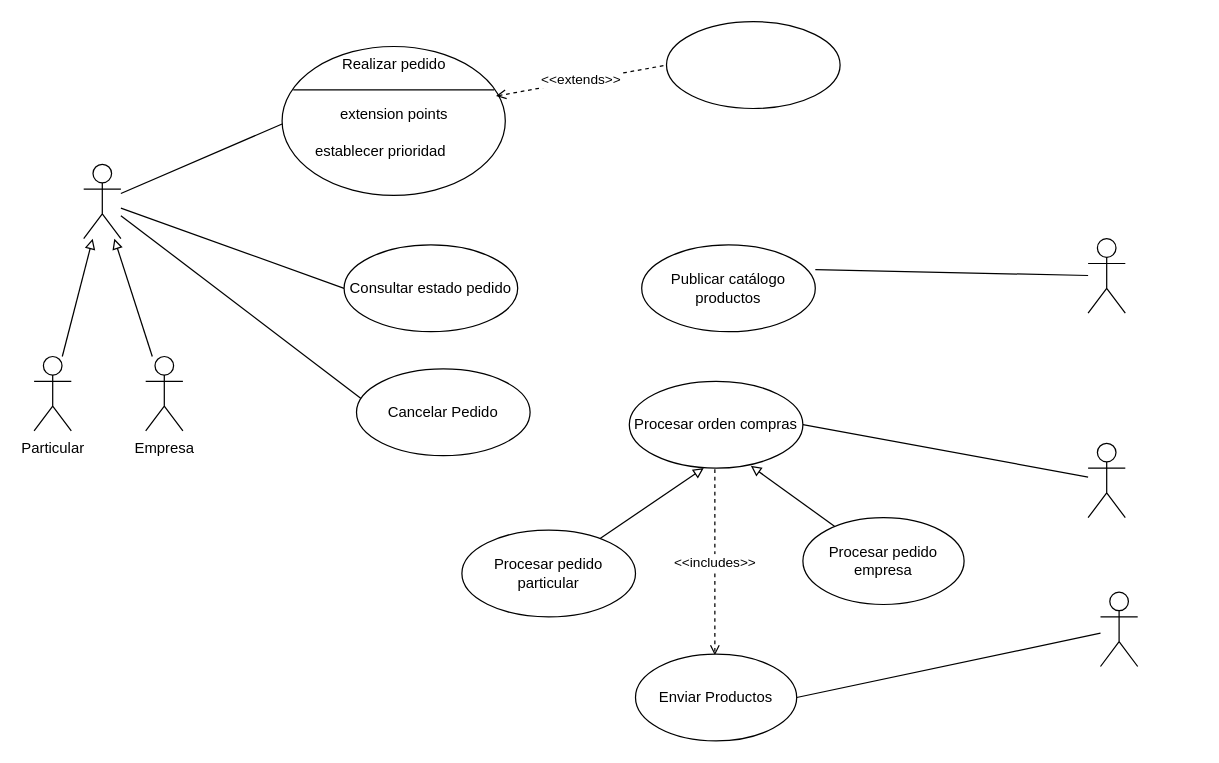
Image size: 1219x763. Some labels were removed from this diagram. Each missing label, with the centre of its shape:
Cliente: point (101, 201)
Empleado: point (1106, 275)
Empresa de mensajeria: point (1118, 628)
Empresa suministradora: point (1106, 480)
Realizar pedido urgente: point (752, 64)
